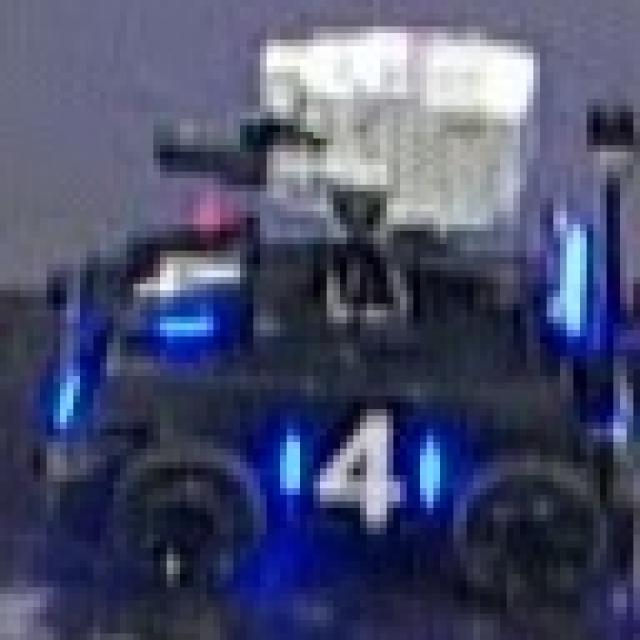B4: (273, 402, 447, 534)
